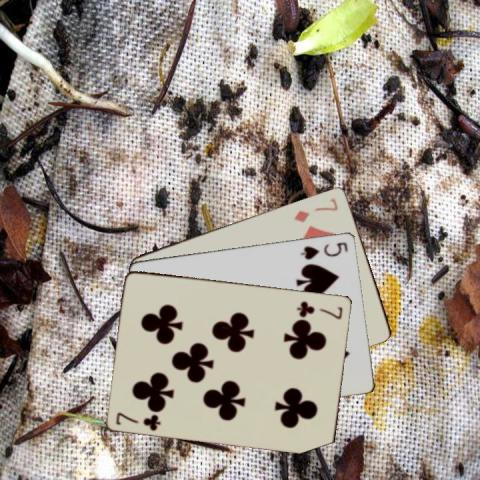5s: (298, 238, 350, 260)
7c: (113, 409, 163, 432), (294, 298, 344, 320)
7d: (291, 195, 340, 223)
